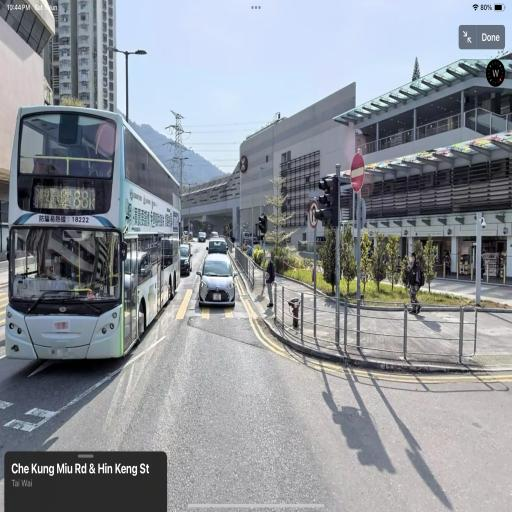Roads: (11, 218, 510, 502)
Trees: (315, 227, 461, 293), (263, 160, 294, 274)
